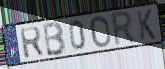0: (68, 18, 88, 52)
B: (43, 20, 68, 58)
K: (135, 8, 157, 42)
O: (89, 15, 112, 49)
R: (110, 9, 138, 48), (18, 25, 45, 60)
